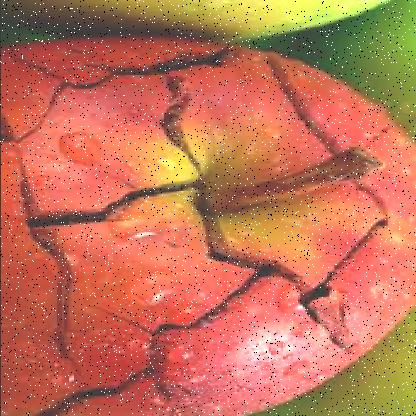damaged_apple: (14, 32, 402, 408)
